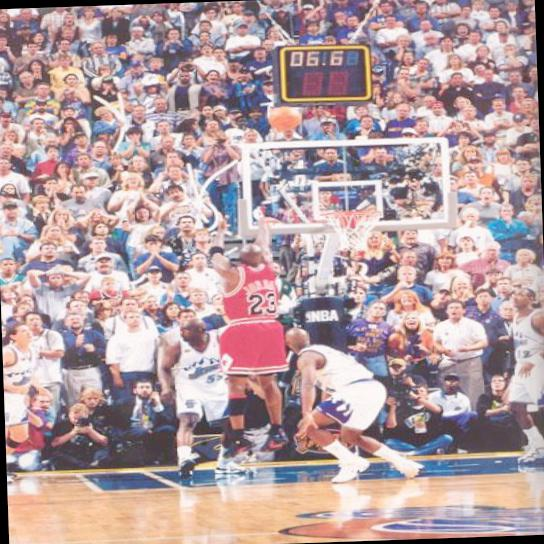basketball-hoop: (318, 209, 386, 253)
